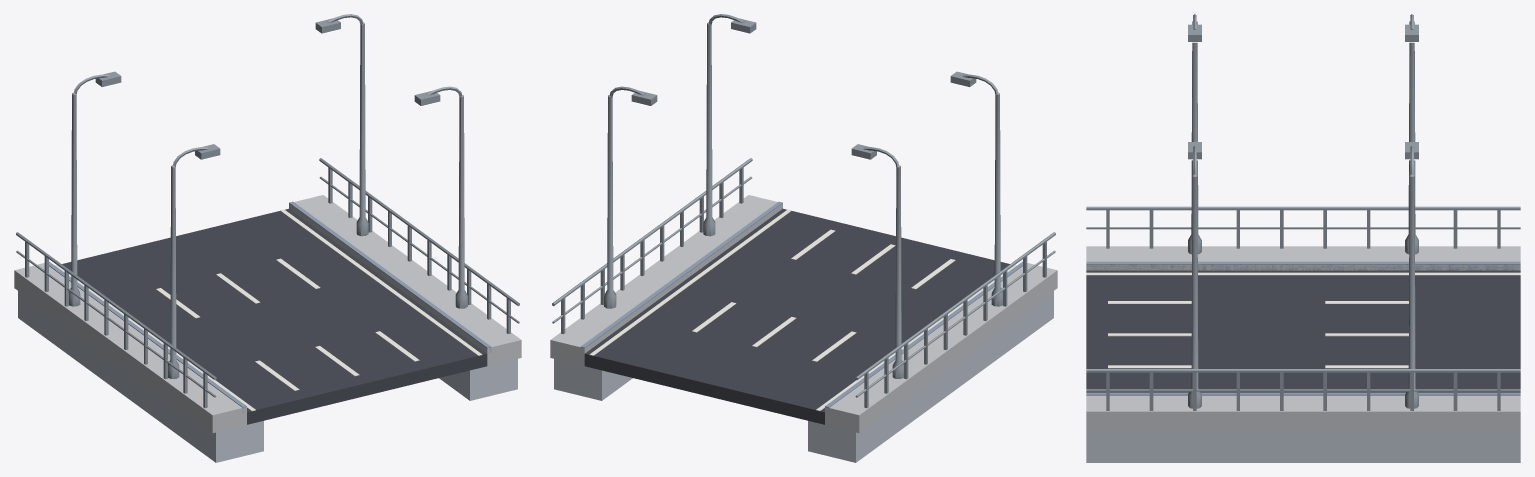
The model's file is dragon_bridge_deck.glb.
3 renders of one model, left to right at view 1: azimuth 30°, elevation 25°; view 2: azimuth 150°, elevation 25°; view 3: azimuth 270°, elevation 25°, orthographic. The views are drawn at different scales.
Visible parts, largest first — view 1: dragon_bridge_deck; view 2: dragon_bridge_deck; view 3: dragon_bridge_deck.
Part boxes in pixels (bbox=[...]): dragon_bridge_deck: bbox=[14, 14, 521, 462]; dragon_bridge_deck: bbox=[550, 14, 1057, 462]; dragon_bridge_deck: bbox=[1086, 14, 1520, 462].
Size of the model in its own units: 9 by 7.57 by 10.
